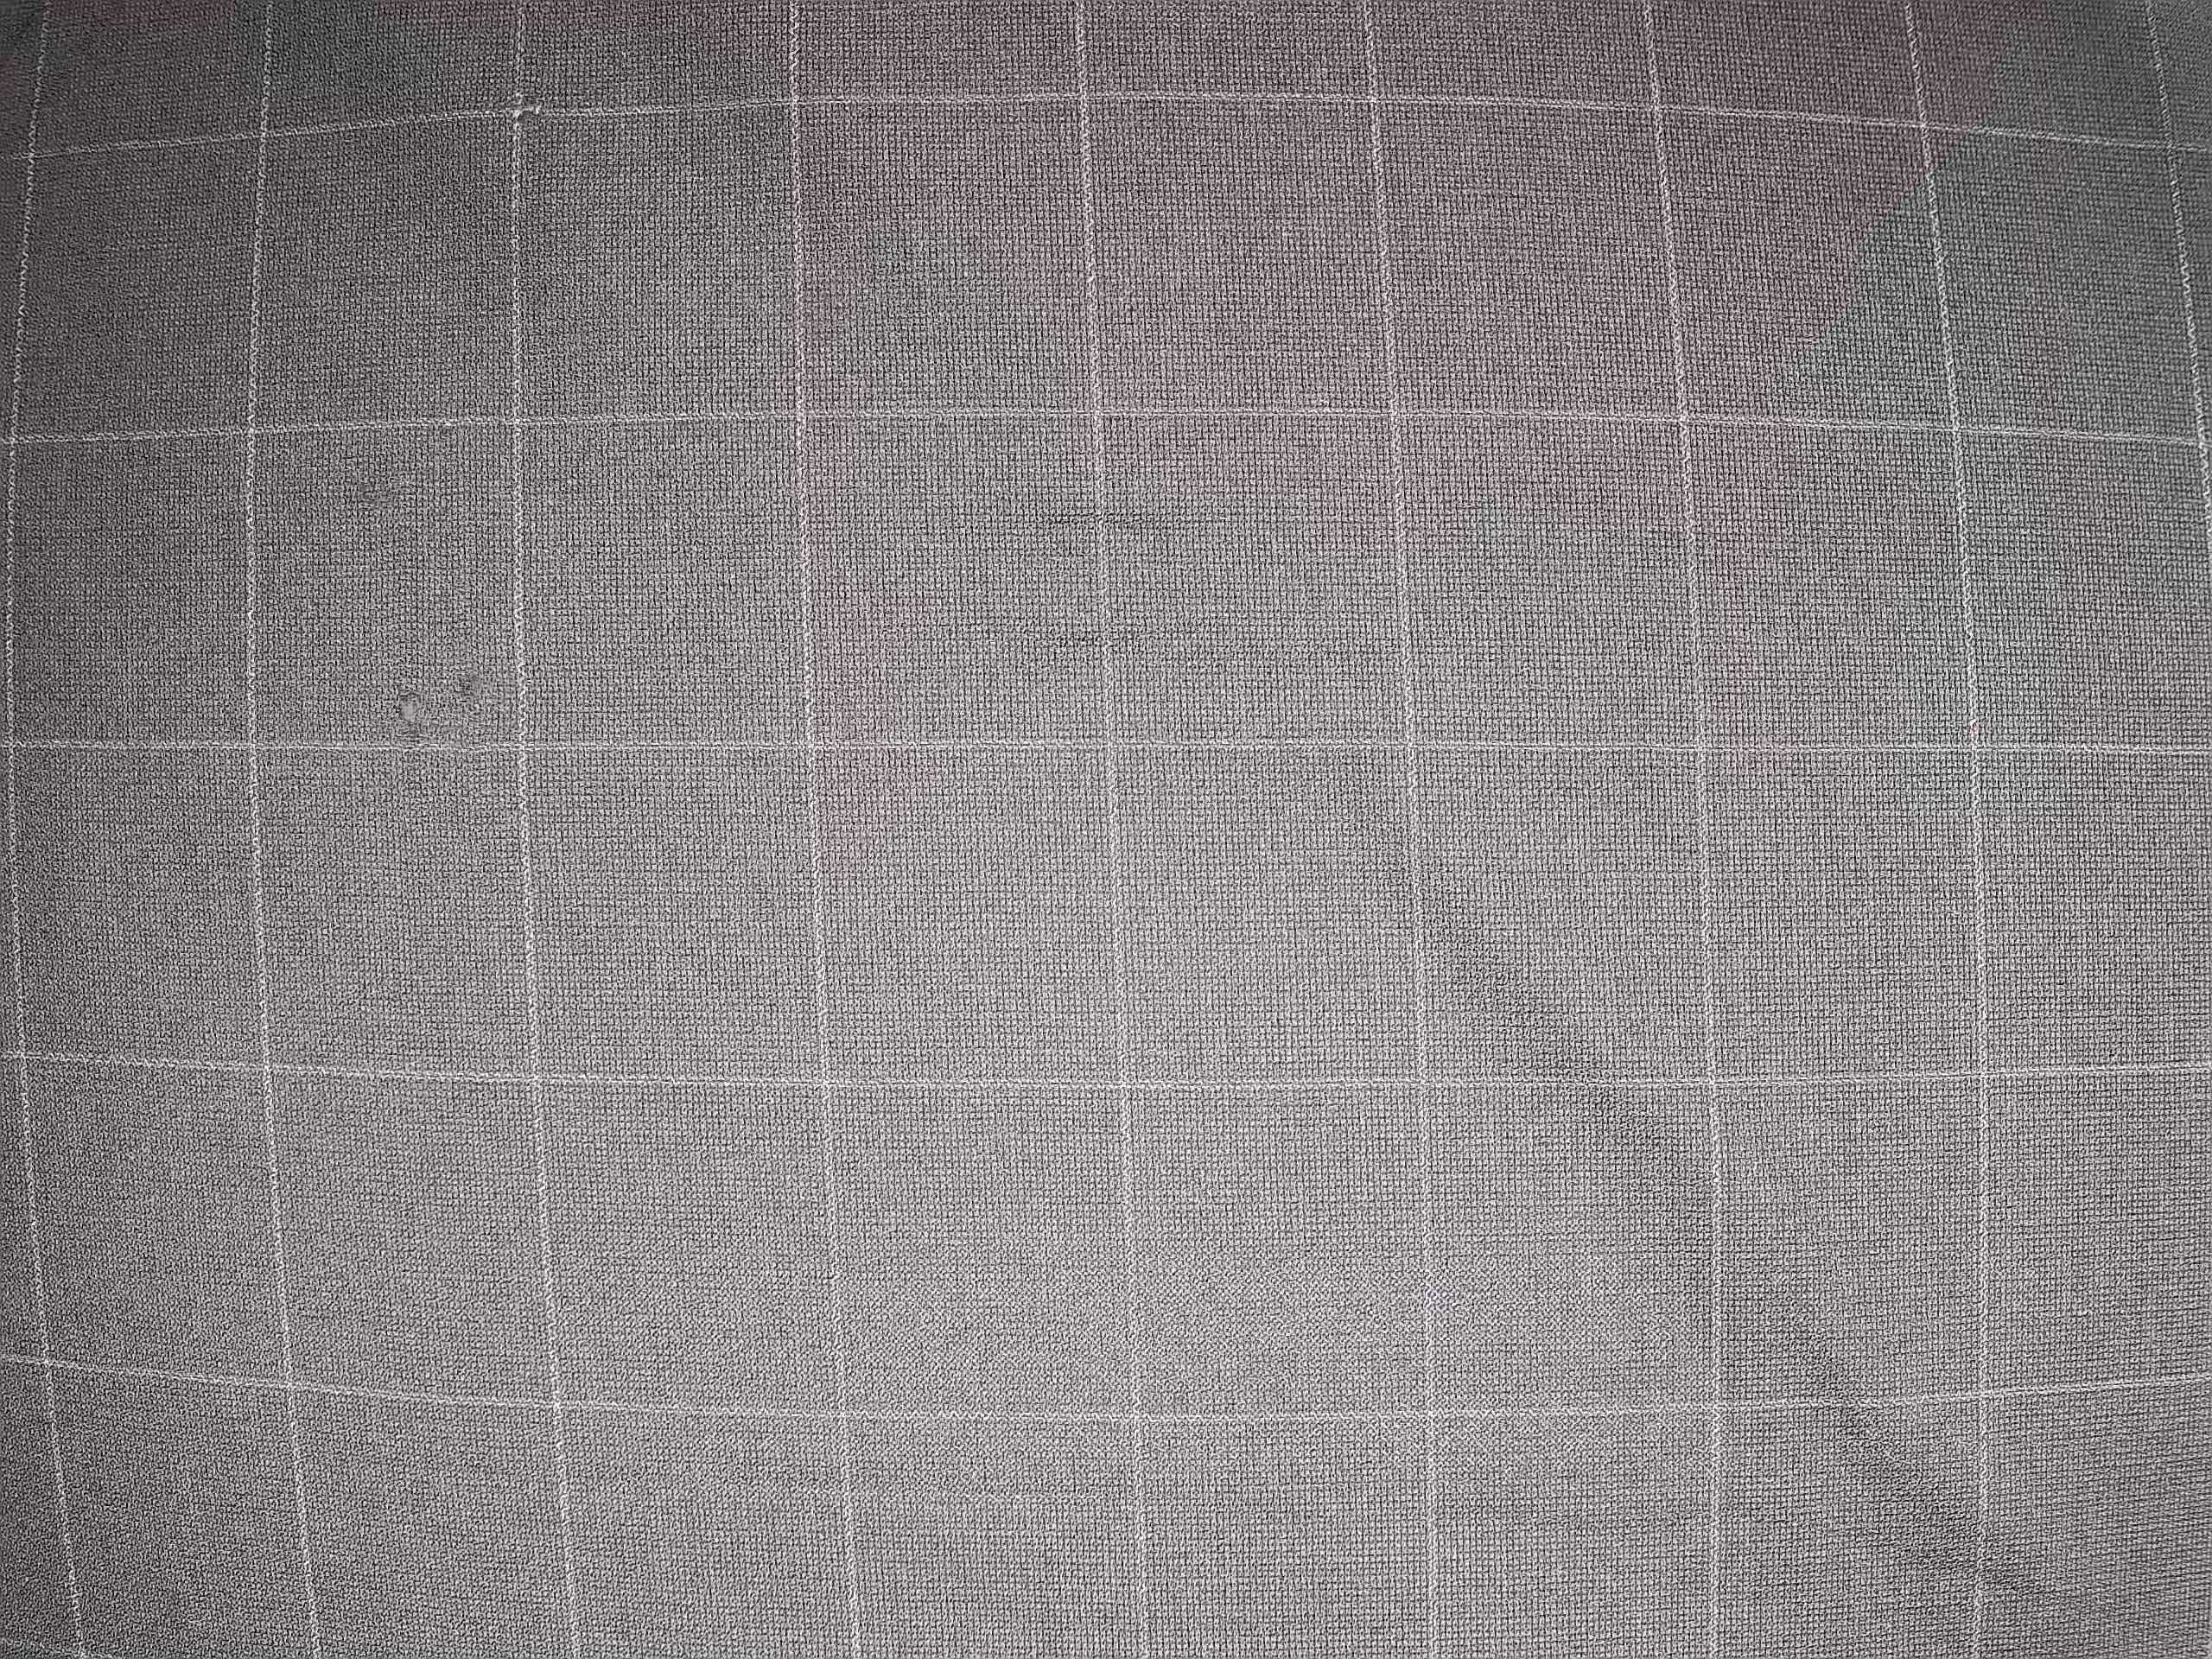rubbing-hole: (357, 645, 514, 769)
